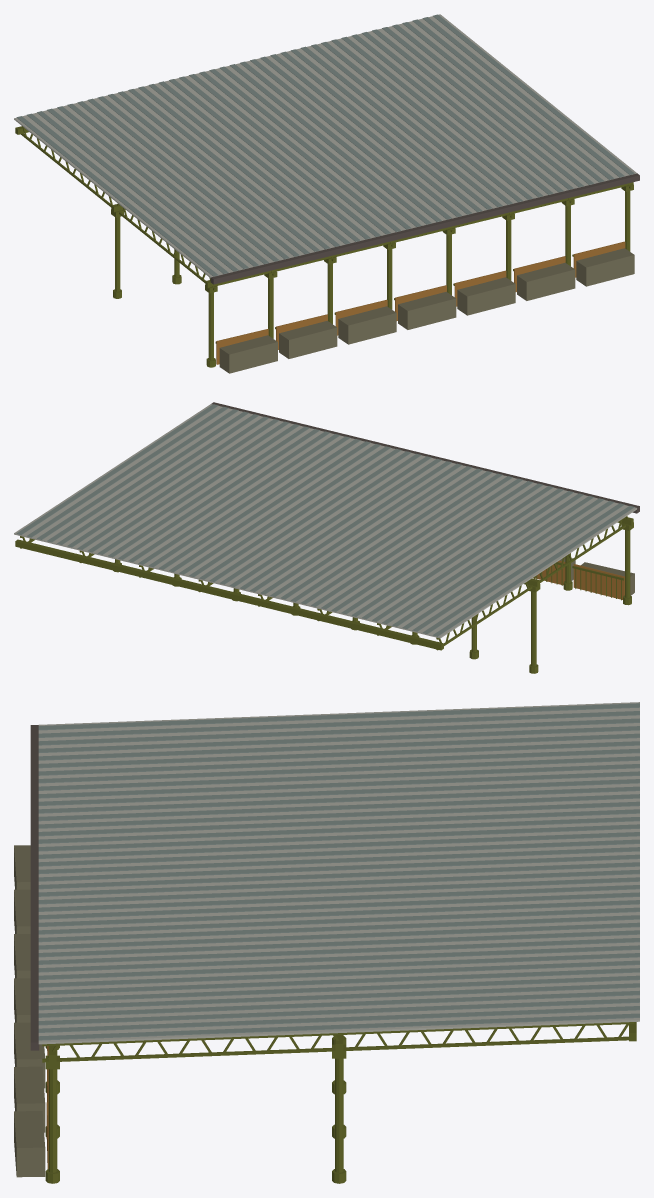
File: SM_MarquesinaAdosada_v4_LOD0.fbx
3 renders of one model, top to bottom at view 1: azimuth 30°, elevation 25°; view 2: azimuth 150°, elevation 25°; view 3: azimuth 270°, elevation 25°, orthographic. The views are drawn at different scales.
Visible parts, largest first — view 1: SM_marquesina_adosada_v4_LOD0; view 2: SM_marquesina_adosada_v4_LOD0; view 3: SM_marquesina_adosada_v4_LOD0.
Part boxes in pixels (<box>): SM_marquesina_adosada_v4_LOD0: <box>14,14,639,373</box>; SM_marquesina_adosada_v4_LOD0: <box>14,402,639,673</box>; SM_marquesina_adosada_v4_LOD0: <box>14,702,639,1183</box>.
Bounding box in the file's own units: 21 × 5.1 × 17.49.
